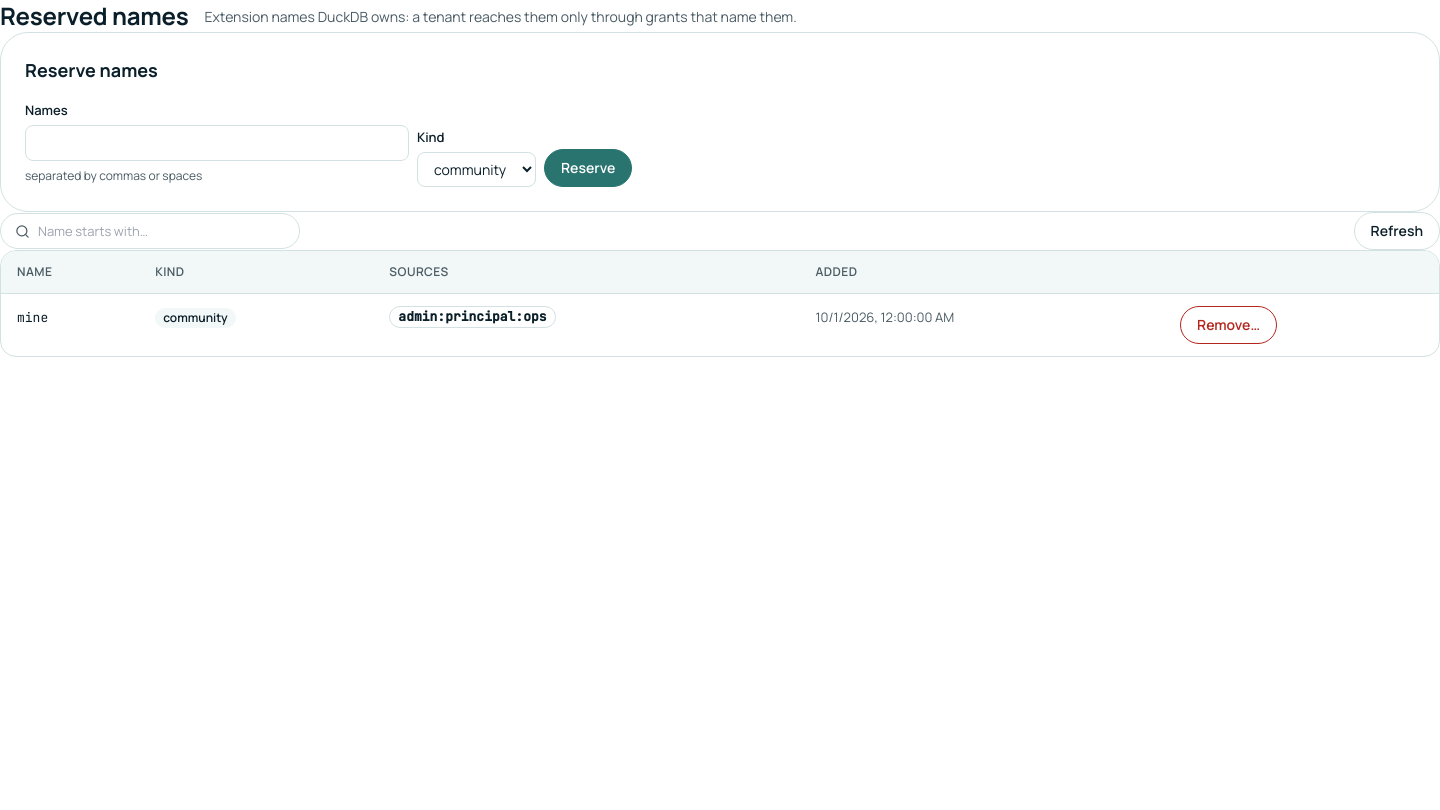
Test case: reserved names › keeps a removal's failure apart from the reserve form
Click the button "Remove…": (1228, 325) [1180,306,1277,344]
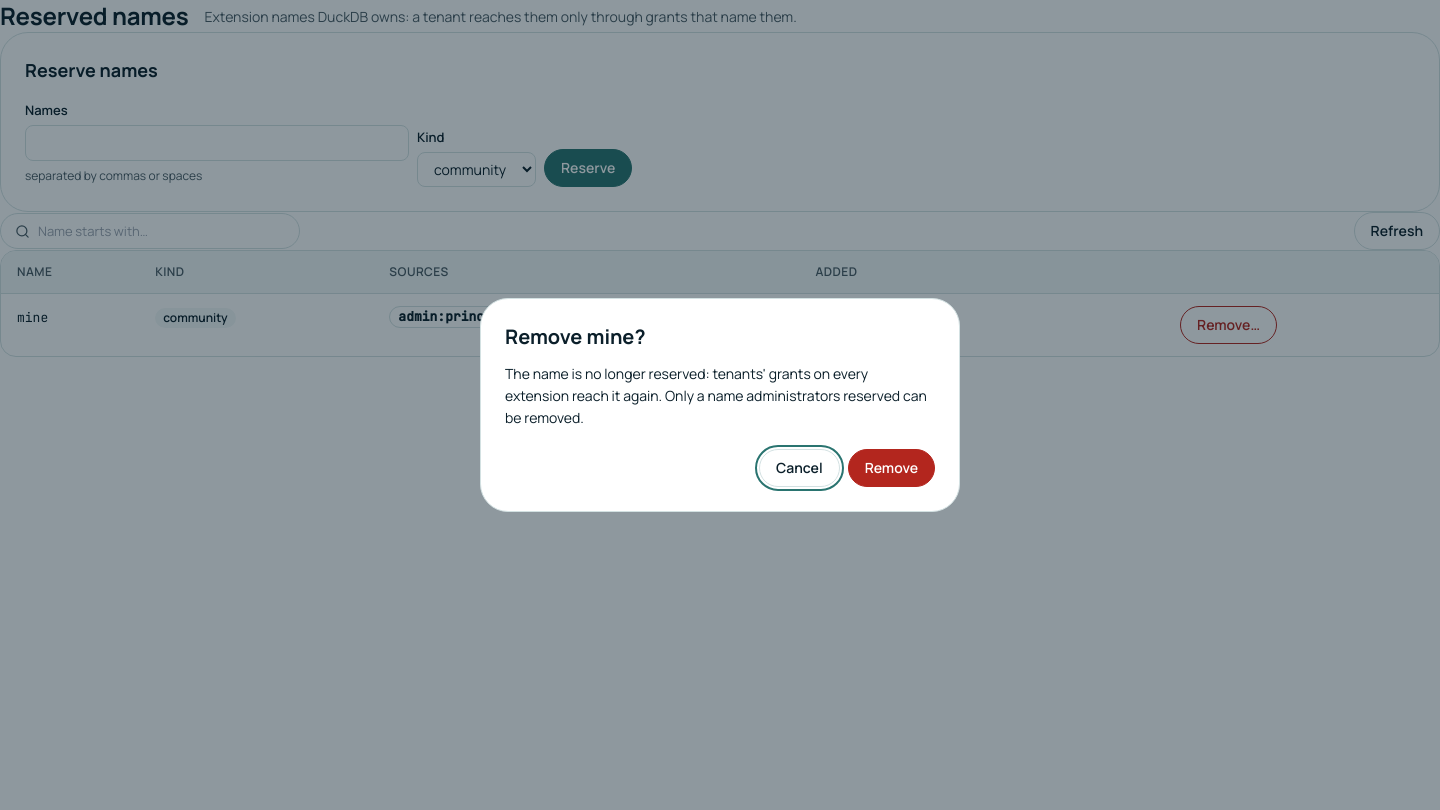
Click the button "Remove": (891, 468) [848,449,935,487]
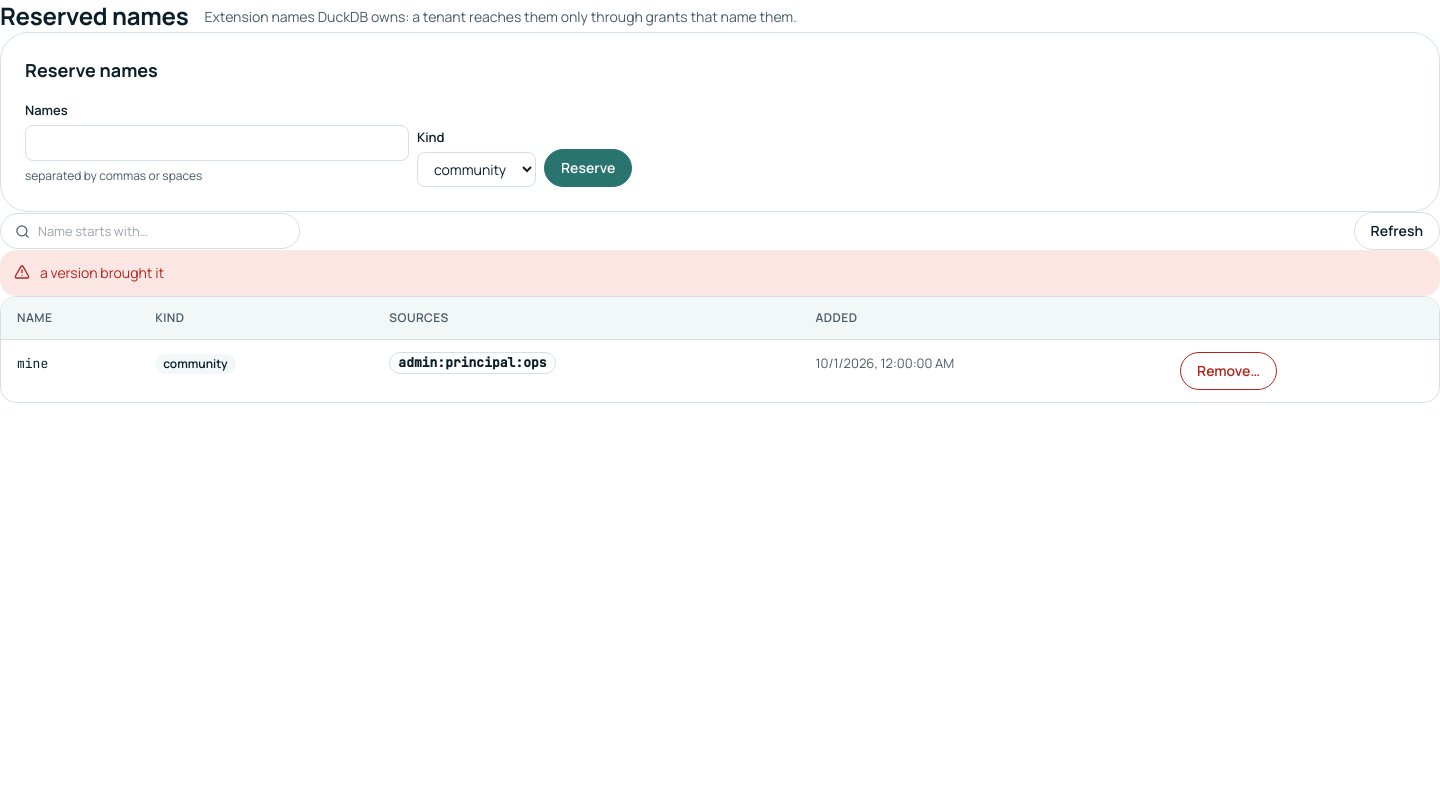
expect the text "a version brought it" is shown: met, box [40,262,164,284]
